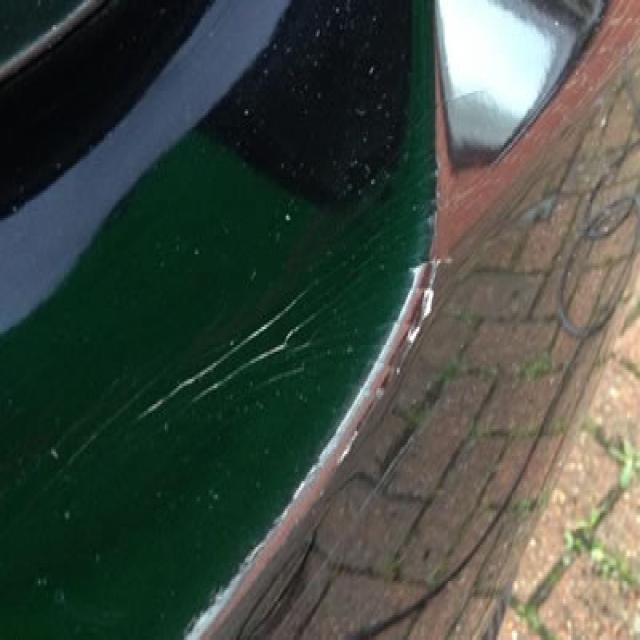scratch: (131, 252, 338, 422)
